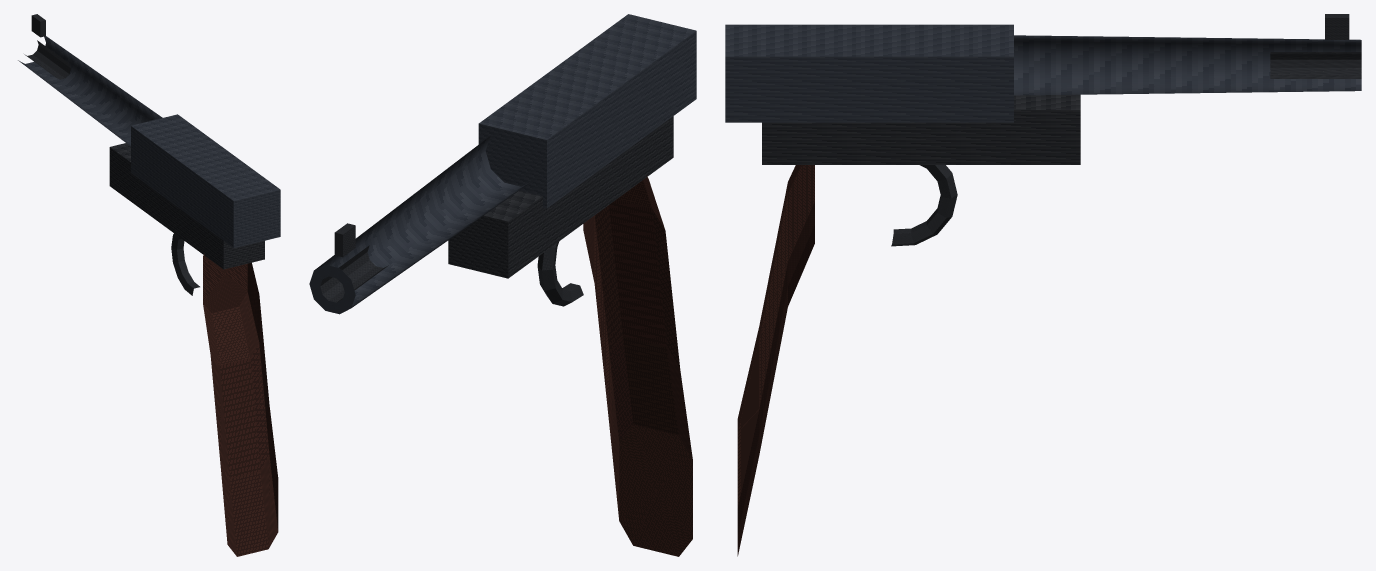
The model's file is walther_p38.glb.
3 renders of one model, left to right at view 1: azimuth 30°, elevation 25°; view 2: azimuth 150°, elevation 25°; view 3: azimuth 270°, elevation 25°, orthographic. The views are drawn at different scales.
Visible parts, largest first — view 1: WeaponMesh; view 2: WeaponMesh; view 3: WeaponMesh.
Boxes of the visible parts, x1,y1,x2,y2 form: WeaponMesh: [18, 14, 280, 556]; WeaponMesh: [309, 14, 696, 556]; WeaponMesh: [725, 14, 1361, 556].
Bounding box in the file's own units: 0.027 × 0.1927 × 0.2095.
Materials: 3 (3 with a texture image).
